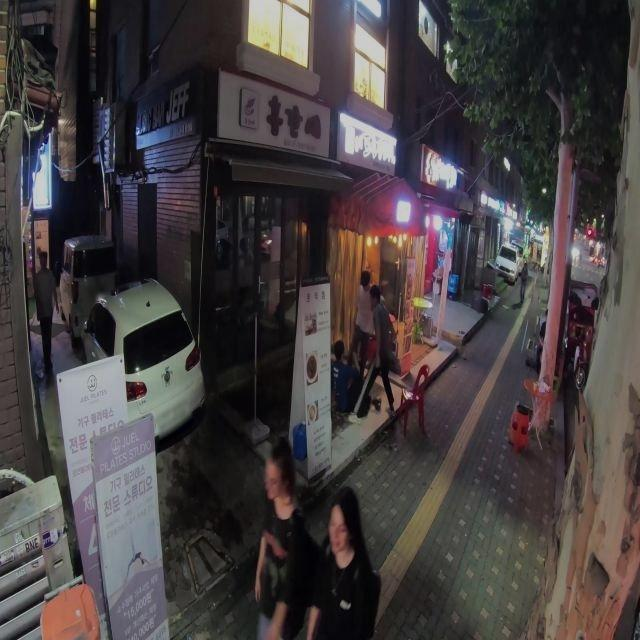fight: (332, 270, 397, 418)
non-fight: (247, 442, 320, 639)
